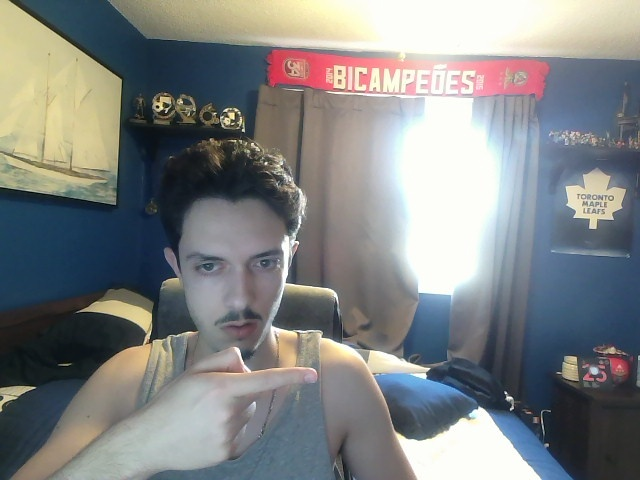Left: (130, 347, 318, 471)
